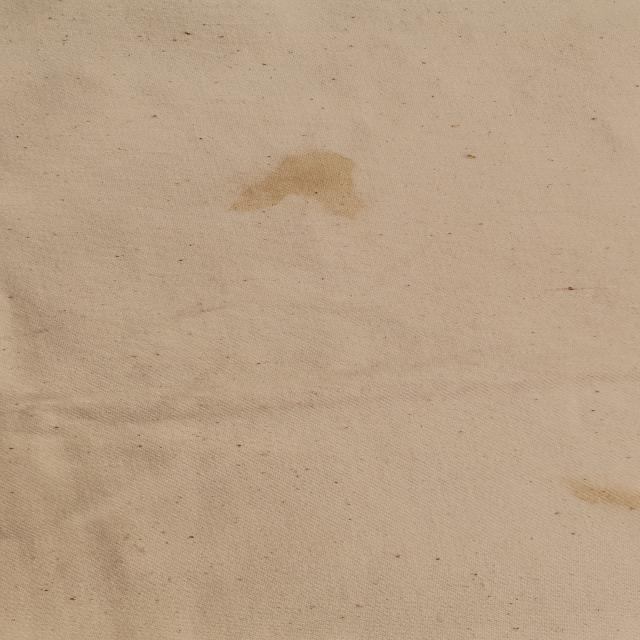taaaches: (216, 128, 397, 234), (544, 469, 639, 517)
